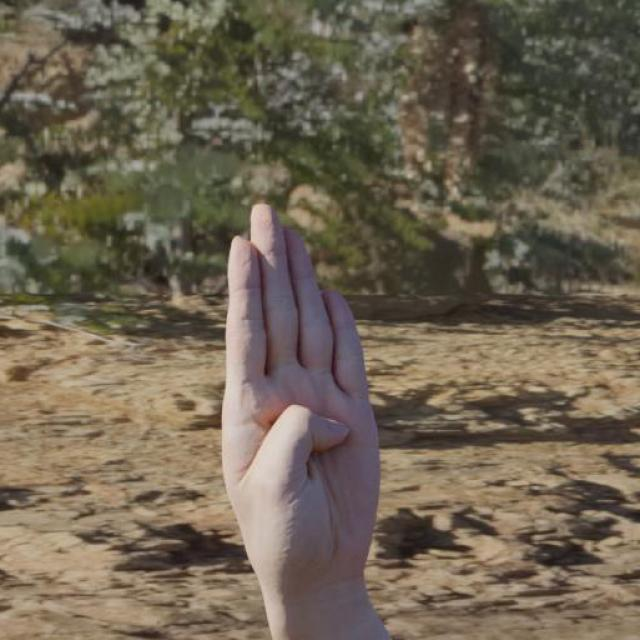B: (217, 195, 387, 600)
